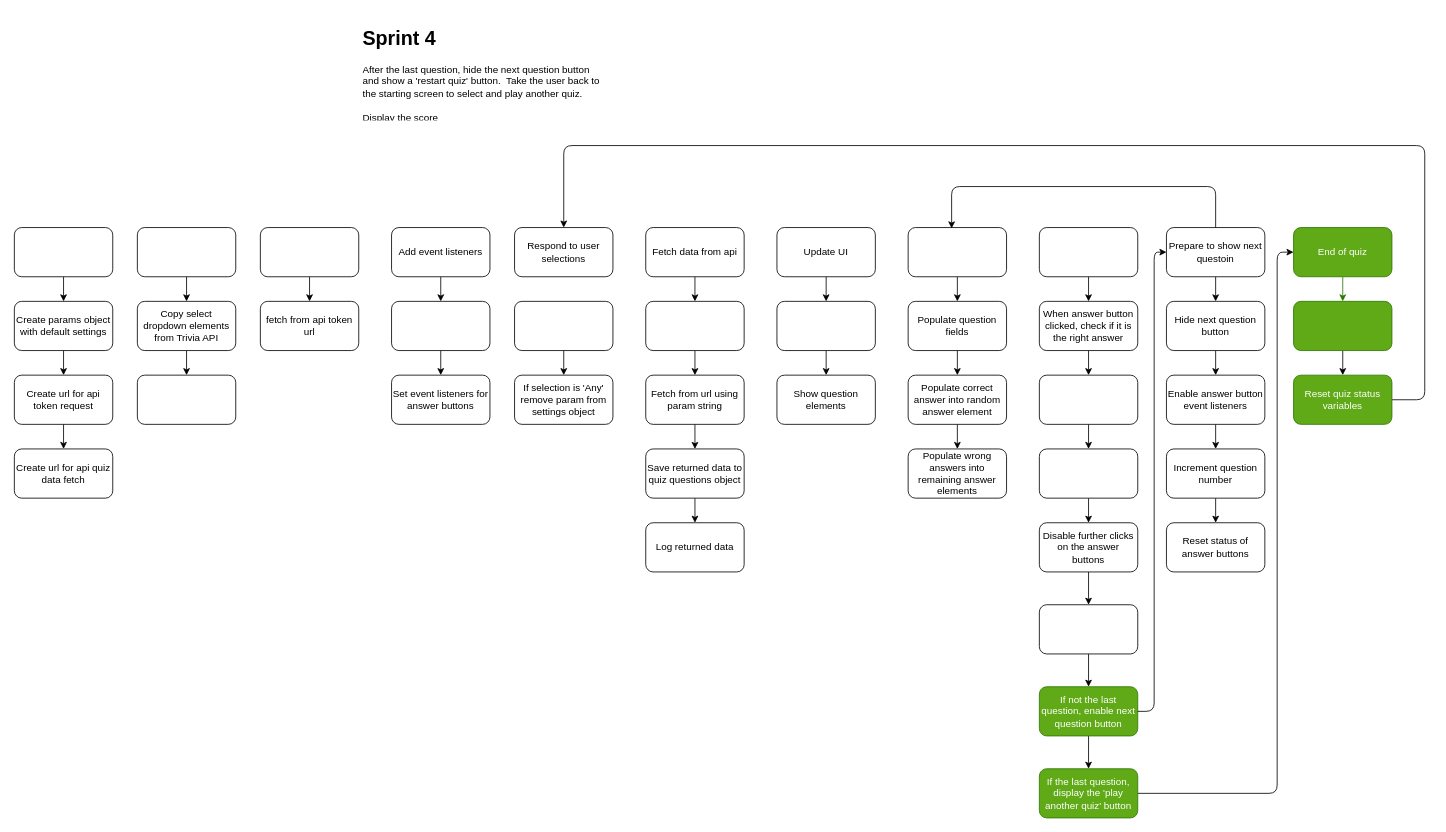
The diagram is 1446 pixels wide and 832 high, and some of its shapes have lost their labels. The centre of each missing label's shape, as x and y in pixels:
"Build param string from settings object" belongs at pixel 694 326.
"Create basic UI" belongs at pixel 186 252.
"Each dropdown updates params settings in settings object" belongs at pixel 563 326.
"Get answer" belongs at pixel 1088 252.
"Get quiz token from api" belongs at pixel 309 252.
"Hide question elements" belongs at pixel 186 399.
"Hide quiz select elements" belongs at pixel 825 326.
"If answer is correct, increment score" belongs at pixel 1088 629.
"If answer is wrong mark the provided answer red" belongs at pixel 1088 399.
"Initialise variables" belongs at pixel 63 252.
"Mark the correct answer green" belongs at pixel 1088 473.
"Reset ui to hide question components and show select components" belongs at pixel 1342 326.
"Set event listeners for each select dropdown" belongs at pixel 440 326.
"Show question" belongs at pixel 957 252.
